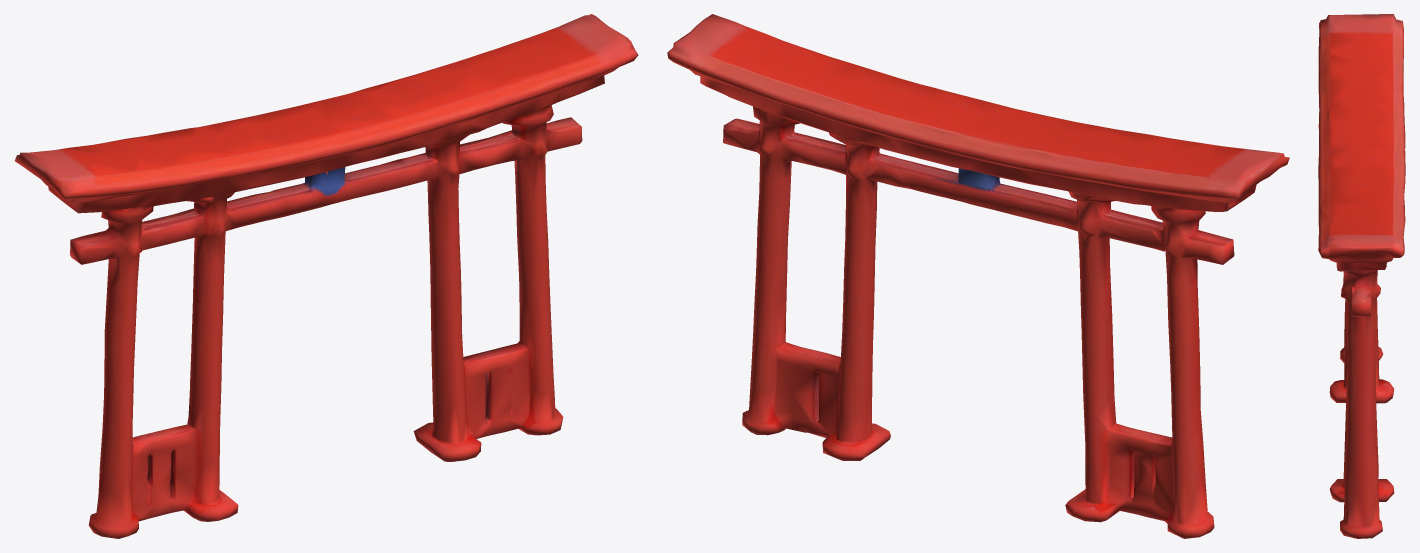
The model's file is torii_japan.glb.
3 views of the same model, side by side, from view 1: azimuth 30°, elevation 25°; view 2: azimuth 150°, elevation 25°; view 3: azimuth 270°, elevation 25° (orthographic). The views are drawn at different scales.
Bounding box in the file's own units: 2 × 1.26 × 0.3167.
1 material, 1 textured.
